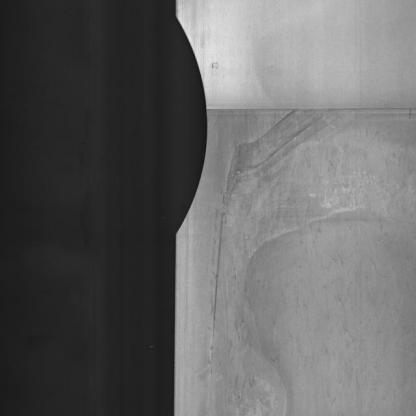crescent_gap: (148, 6, 214, 240)
welding_line: (185, 100, 416, 126)
